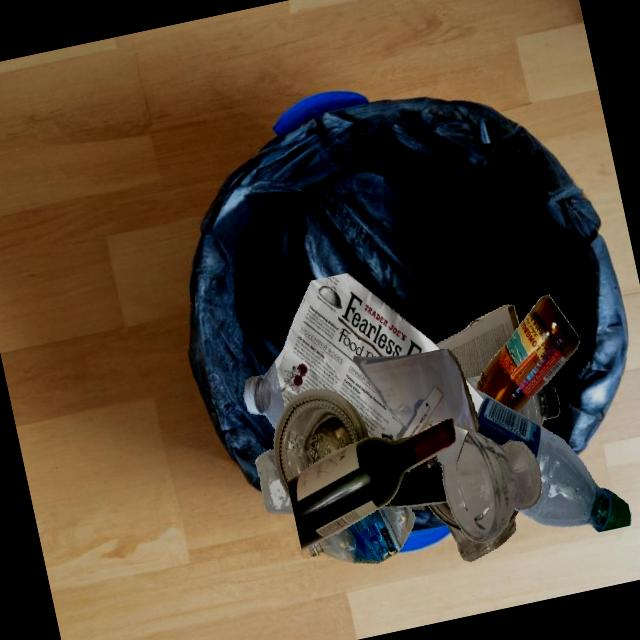cardboard: (408, 505, 424, 509)
glass: (287, 418, 455, 550), (475, 294, 580, 412), (441, 430, 541, 543), (273, 389, 368, 498), (445, 516, 515, 561), (427, 500, 463, 531)
paper: (275, 272, 440, 378), (353, 348, 479, 440), (435, 304, 519, 378)
plastic: (474, 387, 631, 532), (307, 506, 415, 563), (243, 354, 285, 429), (380, 465, 447, 507), (255, 449, 294, 513), (517, 385, 560, 426)
